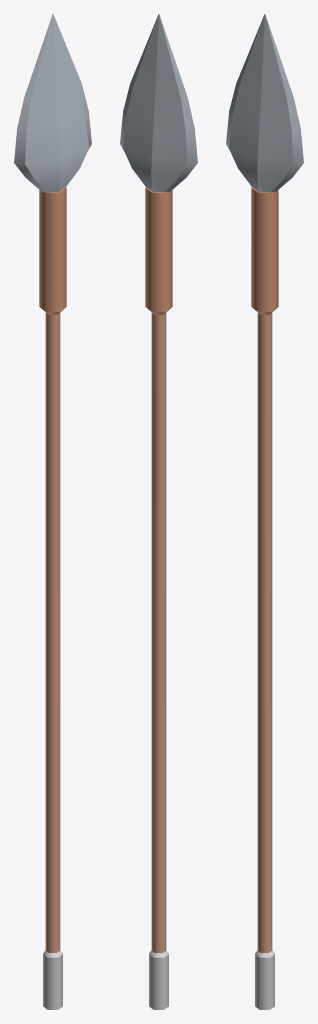
Rendered from Spear.fbx.
3 views of the same model, side by side, from view 1: azimuth 30°, elevation 25°; view 2: azimuth 150°, elevation 25°; view 3: azimuth 330°, elevation 25° (orthographic).
Visible parts, largest first — view 1: Spear; view 2: Spear; view 3: Spear.
Part boxes in pixels (x1,y1,x2,y2): Spear: [14, 14, 91, 1009]; Spear: [120, 14, 197, 1009]; Spear: [226, 14, 303, 1009].
Size of the model in its own units: 24.98 by 304 by 8.57.
1 material, 1 textured.
